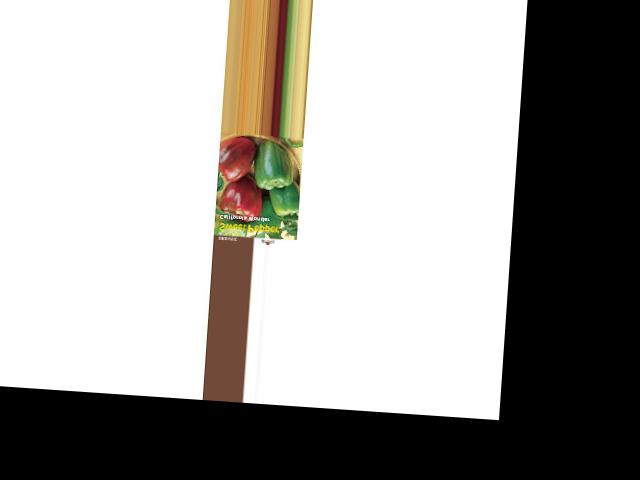bell_pepper: (271, 174, 302, 220)
